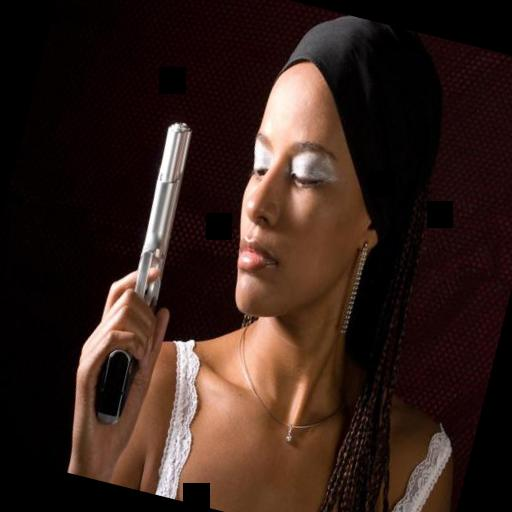Handgun: (77, 105, 210, 437)
